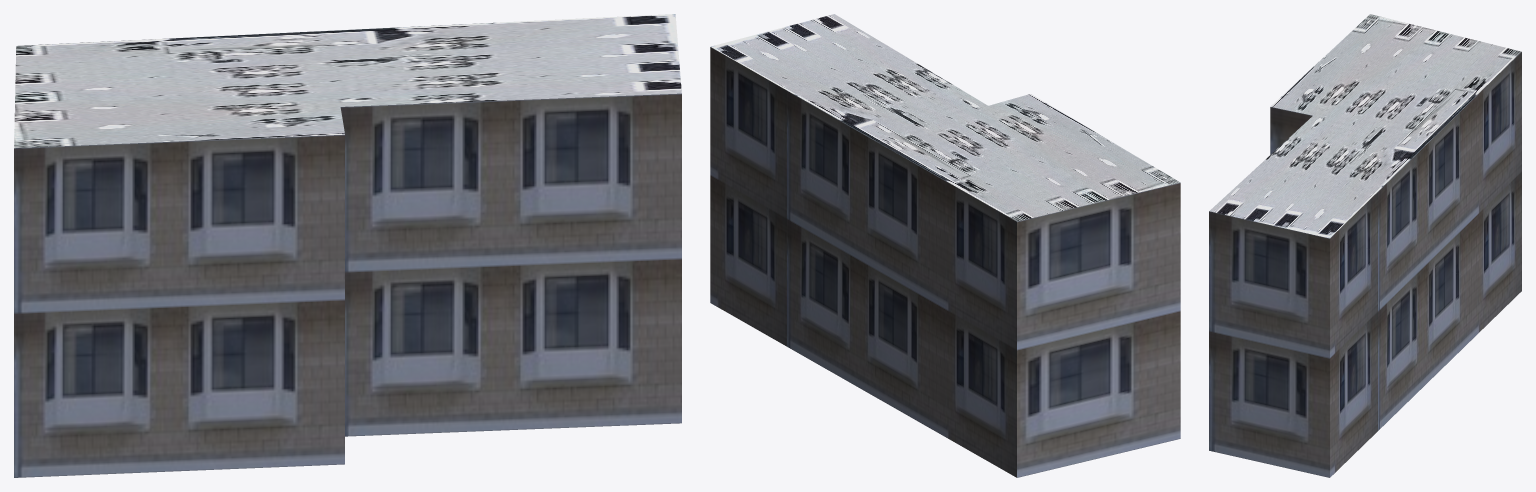
File: ResTex__653.fbx
3 renders of one model, left to right at view 1: azimuth 30°, elevation 25°; view 2: azimuth 150°, elevation 25°; view 3: azimuth 270°, elevation 25°, orthographic. The views are drawn at different scales.
Parts seen in each view (by area): view 1: CityEngineMaterial_3_m, CityEngineMaterial_8_m; view 2: CityEngineMaterial_3_m, CityEngineMaterial_8_m; view 3: CityEngineMaterial_3_m, CityEngineMaterial_8_m.
Boxes of the visible parts, <box> form: CityEngineMaterial_3_m: <box>14,93,681,477</box>; CityEngineMaterial_8_m: <box>14,14,681,148</box>; CityEngineMaterial_3_m: <box>710,47,1180,477</box>; CityEngineMaterial_8_m: <box>710,14,1180,221</box>; CityEngineMaterial_3_m: <box>1209,52,1521,477</box>; CityEngineMaterial_8_m: <box>1209,14,1521,238</box>.
Size of the model in its own units: 12.07 by 6 by 7.1.
Materials: 2 (2 with a texture image).
